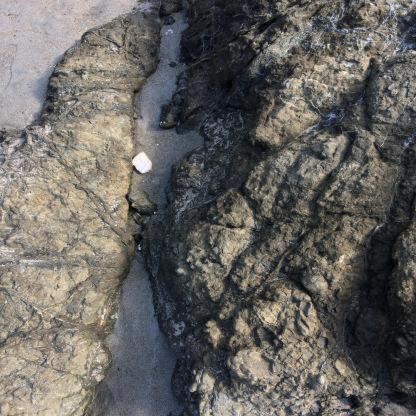Styrofoam piece: (133, 152, 152, 174)
